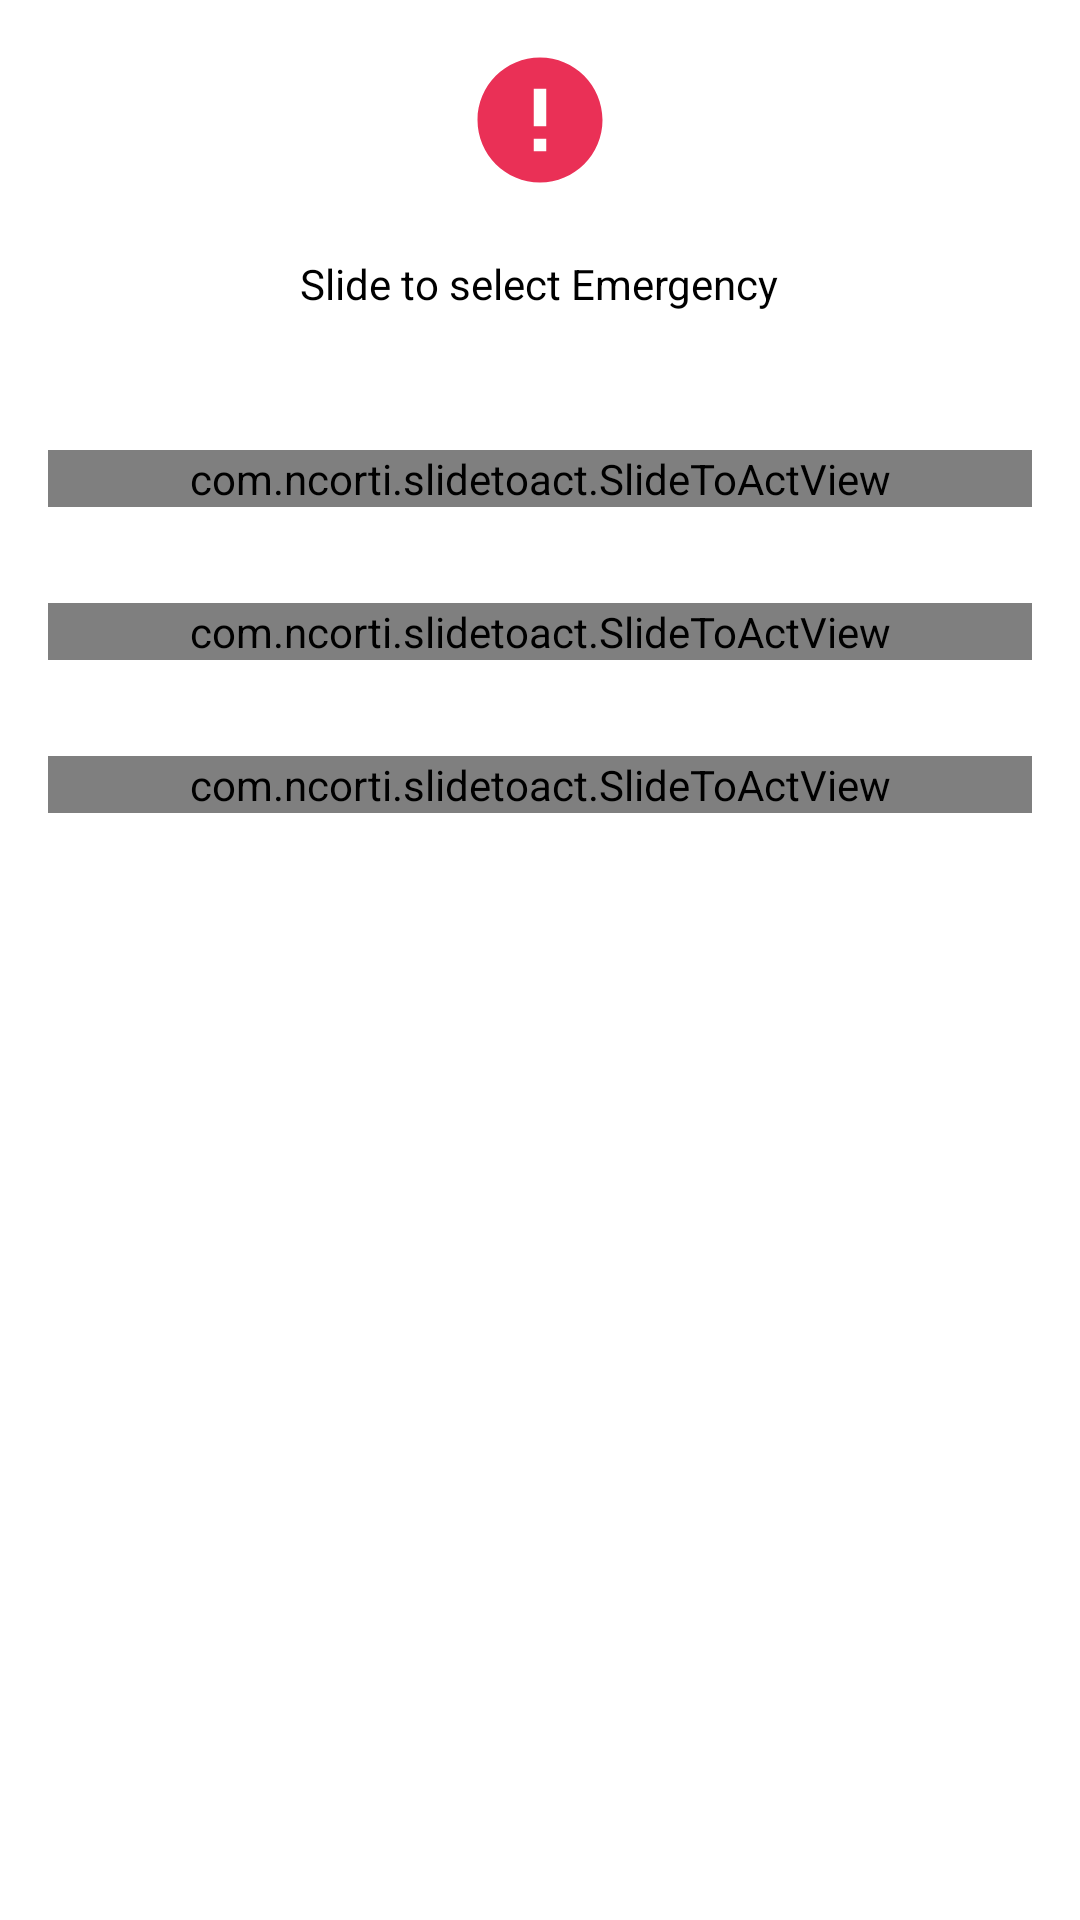

Screen size 1080x1920. Icon name, then its center in pixels as (x,y):
error: (540,120)
